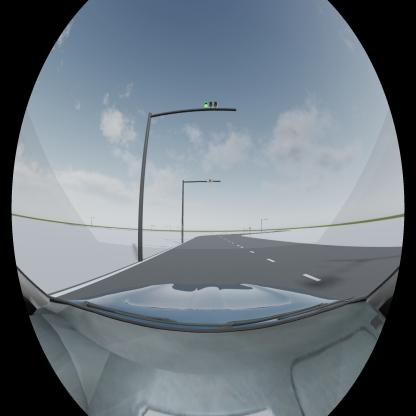Green Light: (202, 101, 219, 110)
